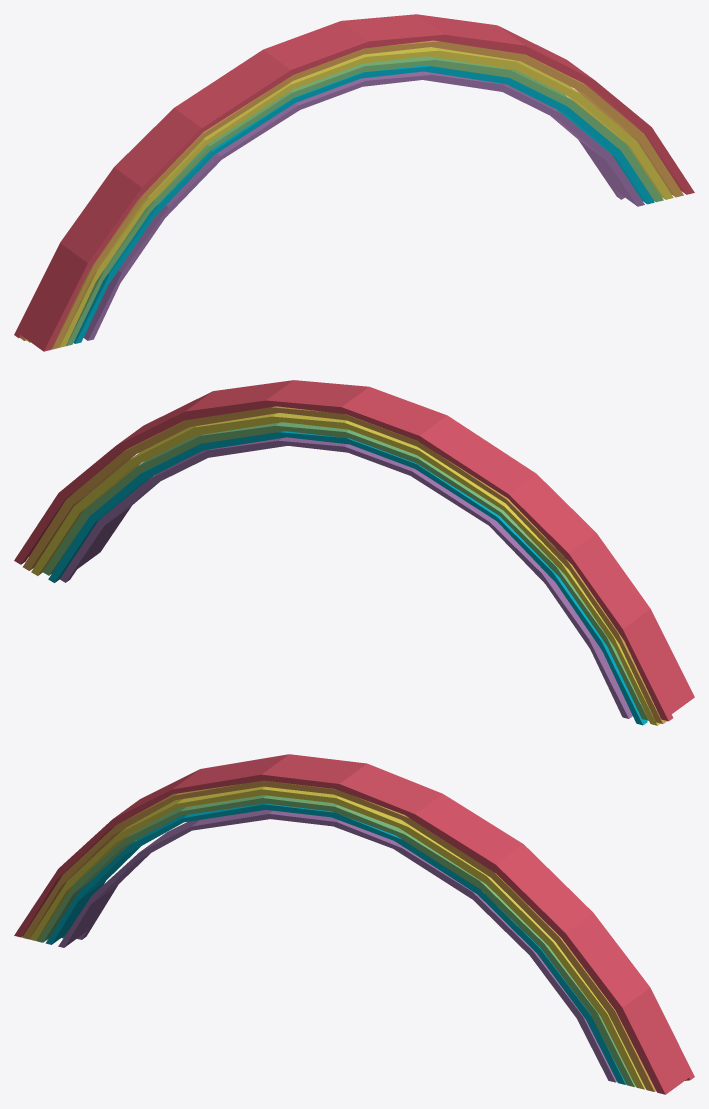
The model's file is asset.glb.
3 renders of one model, top to bottom at view 1: azimuth 30°, elevation 25°; view 2: azimuth 150°, elevation 25°; view 3: azimuth 330°, elevation 25°, orthographic.
Visible parts, largest first — view 1: Mesh_Mesh_head_geo.001_lambert2SG.001; view 2: Mesh_Mesh_head_geo.001_lambert2SG.001; view 3: Mesh_Mesh_head_geo.001_lambert2SG.001.
Boxes of the visible parts, x1,y1,x2,y2 form: Mesh_Mesh_head_geo.001_lambert2SG.001: (14, 14, 694, 351); Mesh_Mesh_head_geo.001_lambert2SG.001: (14, 380, 694, 725); Mesh_Mesh_head_geo.001_lambert2SG.001: (14, 754, 694, 1094).
Bounding box in the file's own units: 230 × 82.6 × 17.
